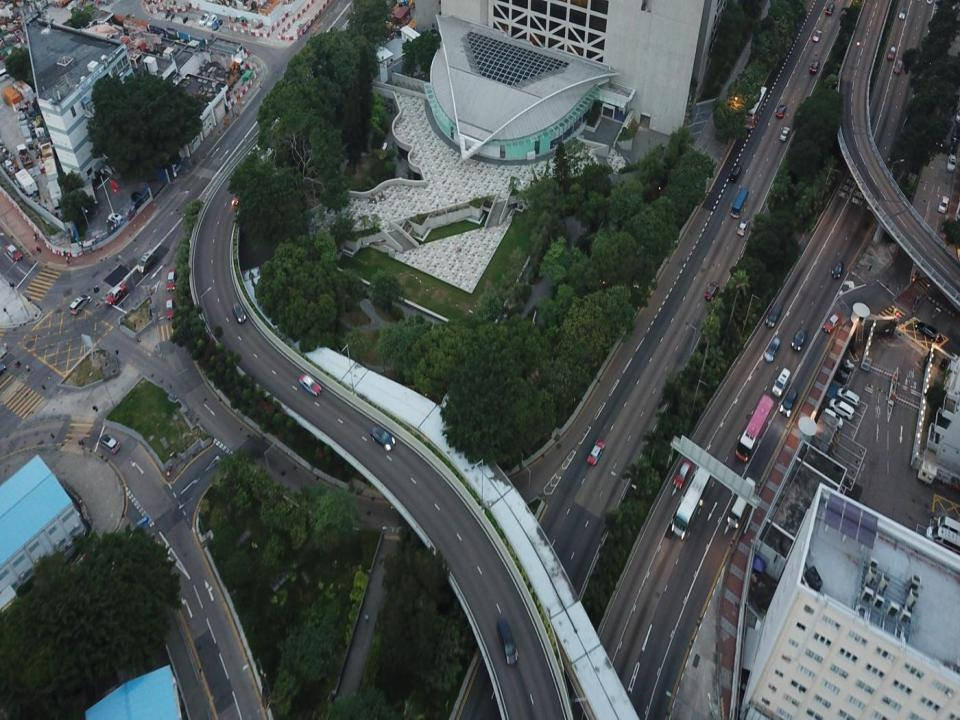bus: (671, 467, 714, 537), (735, 393, 774, 464), (728, 477, 756, 532), (744, 84, 769, 129), (730, 186, 750, 218)
car: (370, 423, 394, 451), (299, 371, 322, 398), (673, 459, 692, 488), (105, 282, 127, 306), (915, 319, 938, 341), (587, 439, 605, 466), (69, 294, 91, 314), (137, 250, 156, 272), (823, 409, 843, 428), (5, 243, 24, 262), (231, 300, 247, 322), (98, 434, 120, 450), (791, 328, 806, 351), (128, 190, 147, 207), (765, 338, 779, 360), (824, 313, 841, 331), (230, 181, 241, 205), (831, 260, 844, 280), (705, 282, 719, 300), (108, 211, 125, 225), (939, 192, 950, 211), (737, 216, 748, 235), (780, 124, 790, 143), (166, 270, 175, 290), (207, 11, 217, 28), (892, 58, 903, 73), (166, 298, 174, 318), (888, 43, 898, 59), (776, 103, 787, 117), (811, 28, 822, 42), (211, 18, 223, 30), (825, 3, 836, 16), (948, 152, 955, 172), (811, 58, 820, 73), (899, 4, 906, 21), (199, 12, 206, 25)
van: (497, 617, 519, 665), (925, 522, 960, 551), (828, 396, 856, 420), (772, 366, 790, 396), (780, 384, 796, 417), (764, 302, 785, 326), (936, 514, 960, 534), (835, 386, 860, 405), (730, 163, 740, 182)
